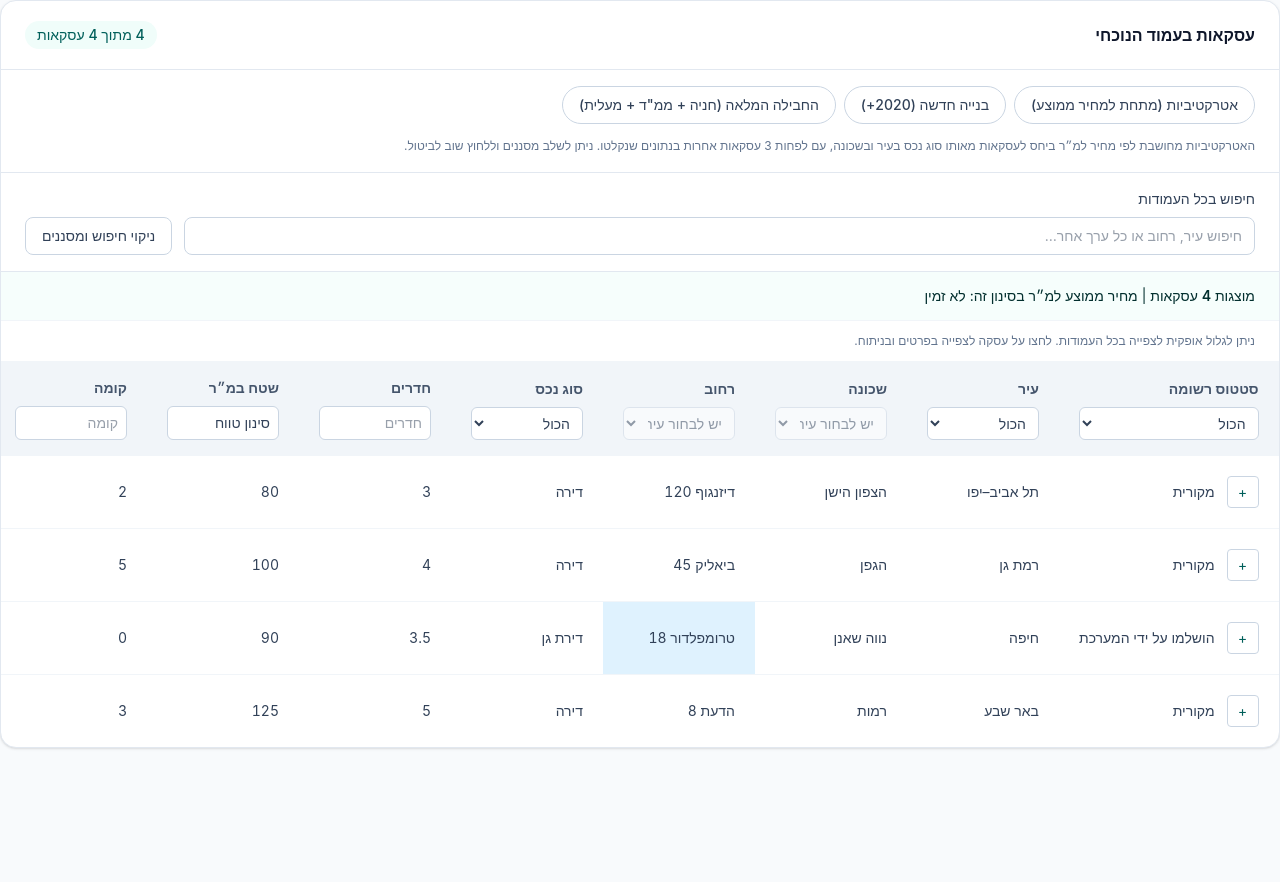
it: cancels a pending request on collapse and fetches again when reopened
Click the button named "פתיחת פרטי העסקה row-2". click: (1243, 492)
box: 1227,476 -> 1259,508
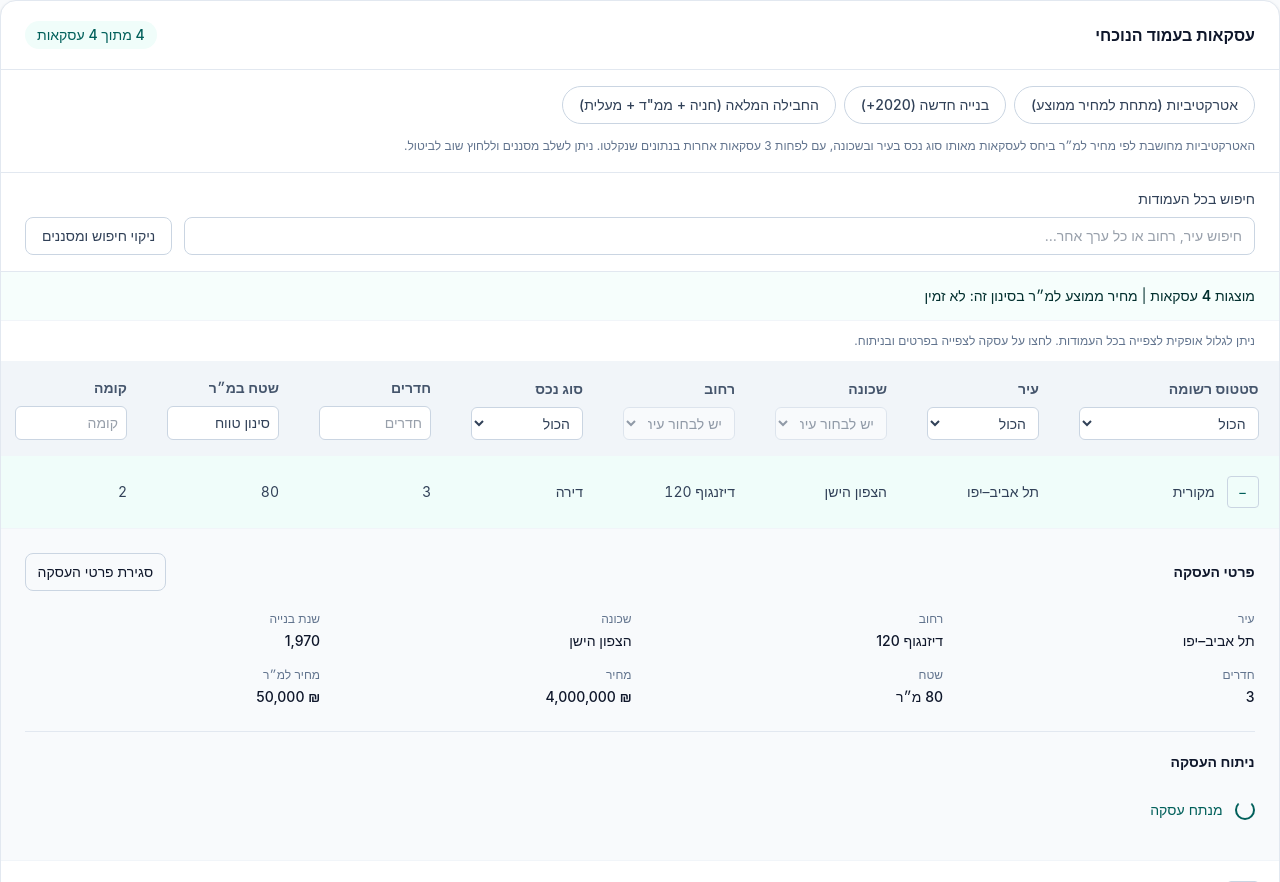
Click the button named "סגירת פרטי העסקה row-2". click: (1243, 492)
box: 1227,476 -> 1259,508
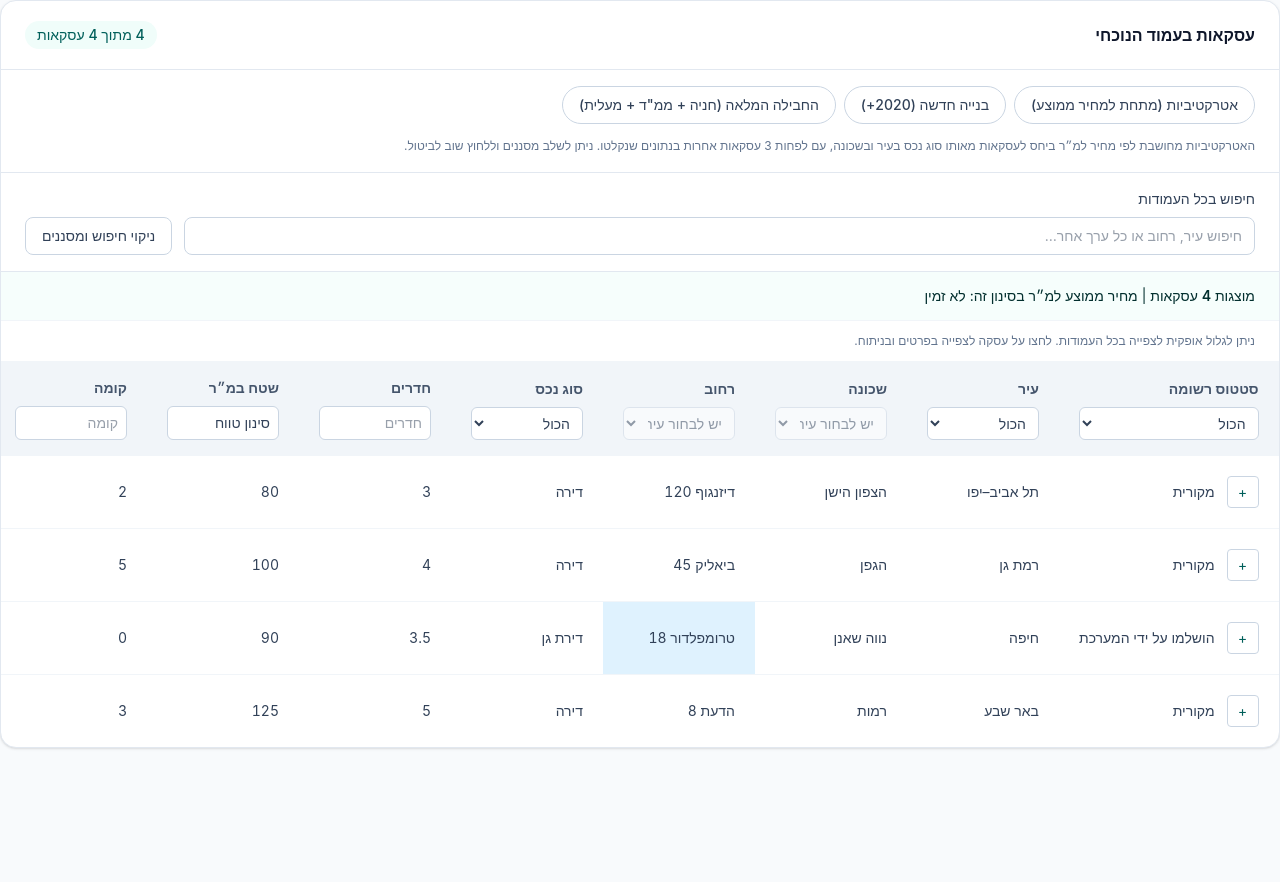
Click the button named "פתיחת פרטי העסקה row-2". click: (1243, 492)
box: 1227,476 -> 1259,508
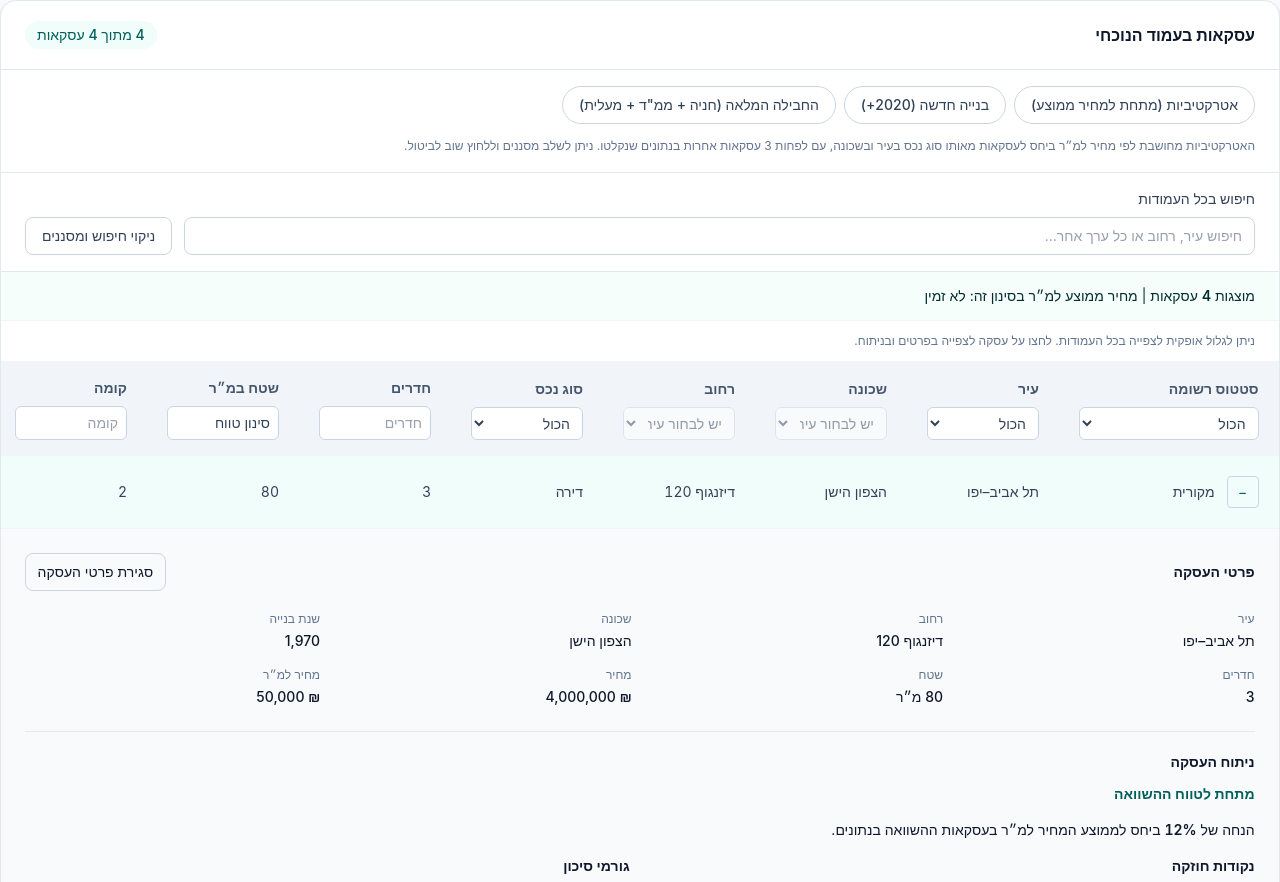
Now the text "מתחת לטווח ההשוואה" is shown, box 1114,785 -> 1255,802
